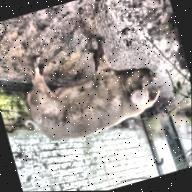boar: (8, 25, 167, 153)
